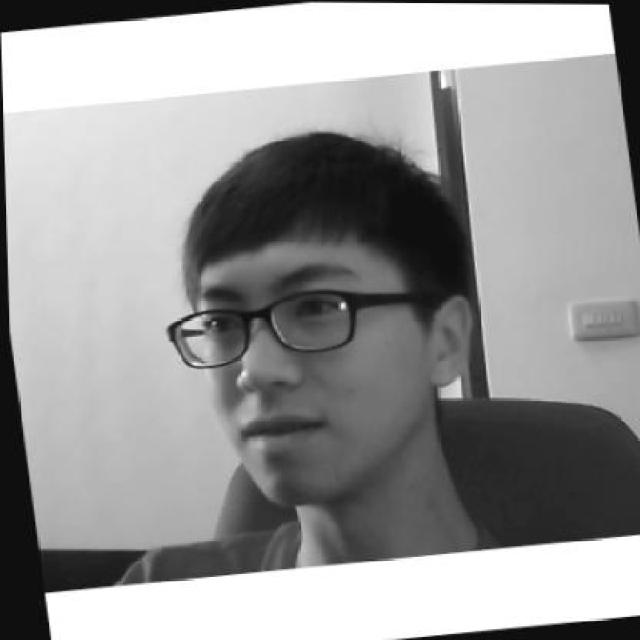attentif: (140, 118, 492, 516)
